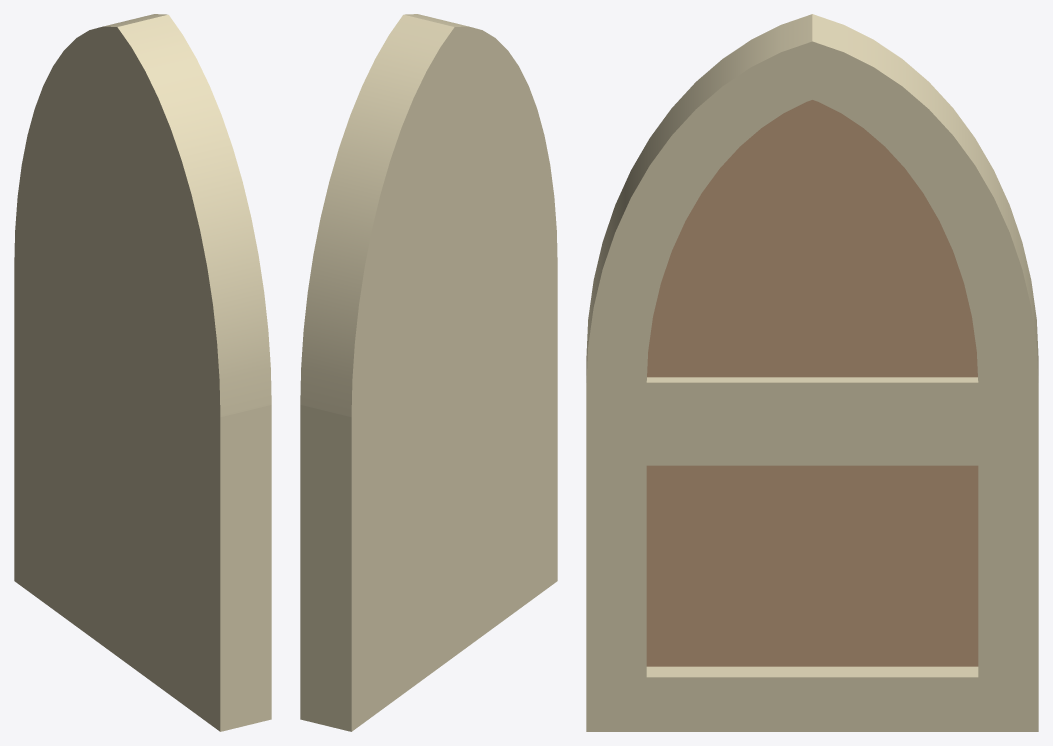
The model's file is door.fbx.
The picture shows the model from 3 angles, left to right: view 1: azimuth 30°, elevation 25°; view 2: azimuth 150°, elevation 25°; view 3: azimuth 270°, elevation 25°; orthographic projection. The views are drawn at different scales.
Visible parts, largest first — view 1: door; view 2: door; view 3: door.
Part boxes in pixels (<box>): door: <box>14,14,271,731</box>; door: <box>300,14,557,731</box>; door: <box>586,14,1038,731</box>.
Bounding box in the file's own units: 0.516 × 6.05 × 3.59.
